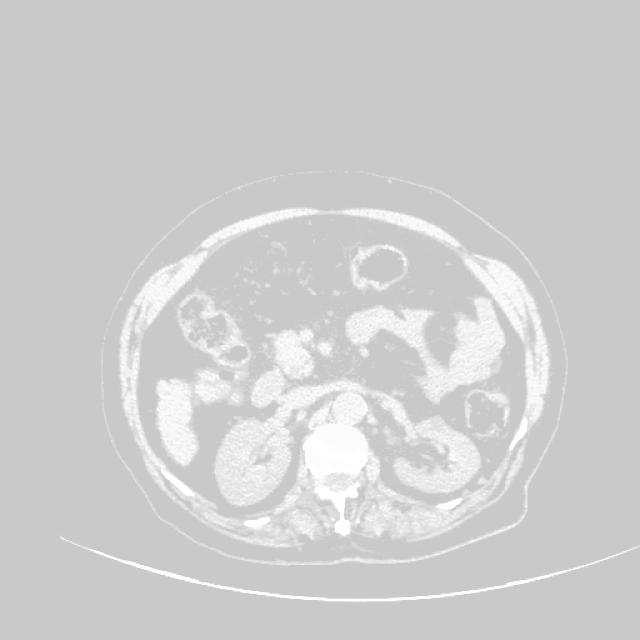cysts: (107, 176, 563, 564)
